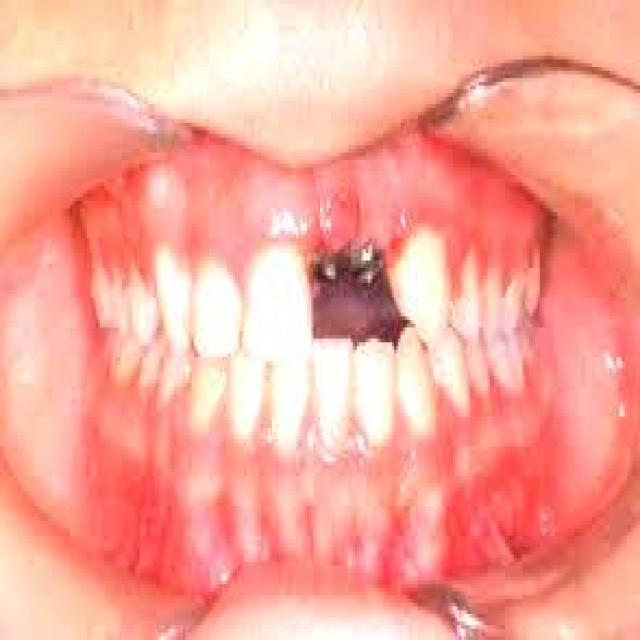caries: (309, 220, 388, 291)
